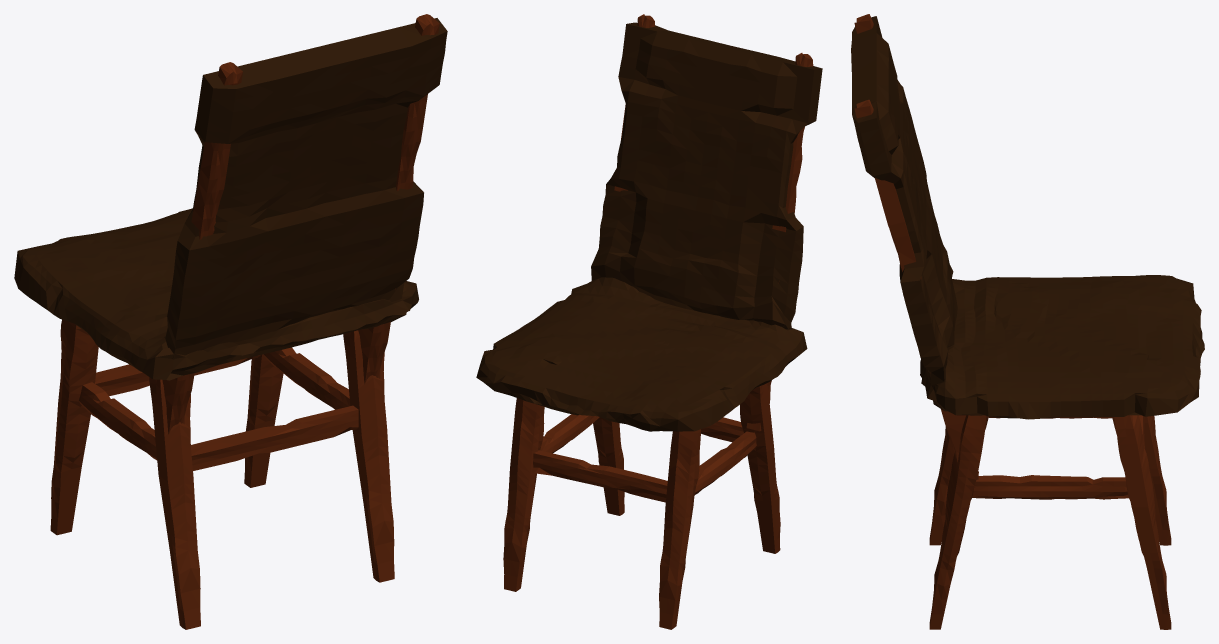
The model's file is Silla2.dae.
3 renders of one model, left to right at view 1: azimuth 30°, elevation 25°; view 2: azimuth 150°, elevation 25°; view 3: azimuth 270°, elevation 25°, orthographic. The views are drawn at different scales.
Visible parts, largest first — view 1: Cubo.005, Cube.002, Cube.004, Cube.003, Cubo.001, Cubo.008, Cube.001, Cubo.003, Cubo.004, Cubo.007, Cubo.002, Cubo.006 (+1 smaller); view 2: Cubo.005, Cube.003, Cube.001, Cube.002, Cubo.002, Cube.004, Cubo.003, Cubo.004, Cubo.008, Cubo.001; view 3: Cubo.005, Cube.001, Cube.004, Cubo.004, Cubo.007, Cube.003, Cube.002, Cubo.006.
Part boxes in pixels (x1,y1,x2,y2): Cubo.005: [14, 18, 447, 380]; Cube.002: [149, 377, 200, 629]; Cube.004: [343, 330, 394, 582]; Cube.003: [50, 319, 98, 535]; Cubo.001: [191, 405, 358, 470]; Cubo.008: [191, 62, 242, 239]; Cube.001: [244, 354, 283, 487]; Cubo.003: [79, 382, 157, 460]; Cubo.004: [264, 347, 350, 409]; Cubo.007: [396, 14, 439, 191]; Cubo.002: [95, 355, 260, 396]; Cubo.006: [358, 288, 395, 384]; Cubo.005: [476, 22, 822, 431]; Cube.003: [659, 429, 700, 629]; Cube.001: [503, 398, 544, 591]; Cube.002: [740, 383, 780, 553]; Cubo.002: [531, 450, 667, 502]; Cube.004: [593, 417, 624, 515]; Cubo.003: [694, 431, 756, 494]; Cubo.004: [540, 414, 599, 453]; Cubo.008: [772, 53, 813, 232]; Cubo.001: [701, 417, 743, 442]; Cubo.005: [851, 16, 1204, 419]; Cube.001: [1112, 415, 1171, 629]; Cube.004: [929, 415, 988, 629]; Cubo.004: [972, 475, 1128, 499]; Cubo.007: [854, 99, 921, 279]; Cube.003: [1144, 416, 1171, 545]; Cube.002: [929, 426, 954, 545]; Cubo.006: [941, 409, 978, 479].
Bounding box in the file's own units: 3.68 × 4.26 × 7.
